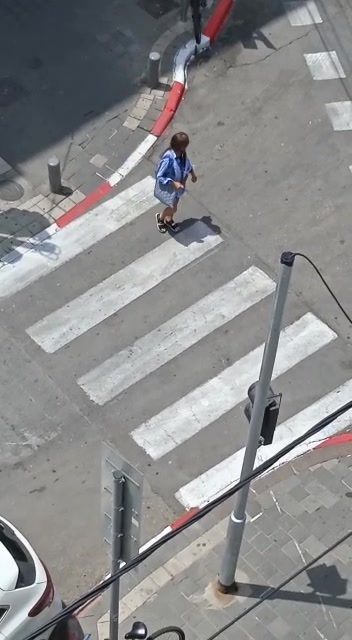crosswalk: (7, 219, 333, 482)
person: (137, 123, 207, 260)
